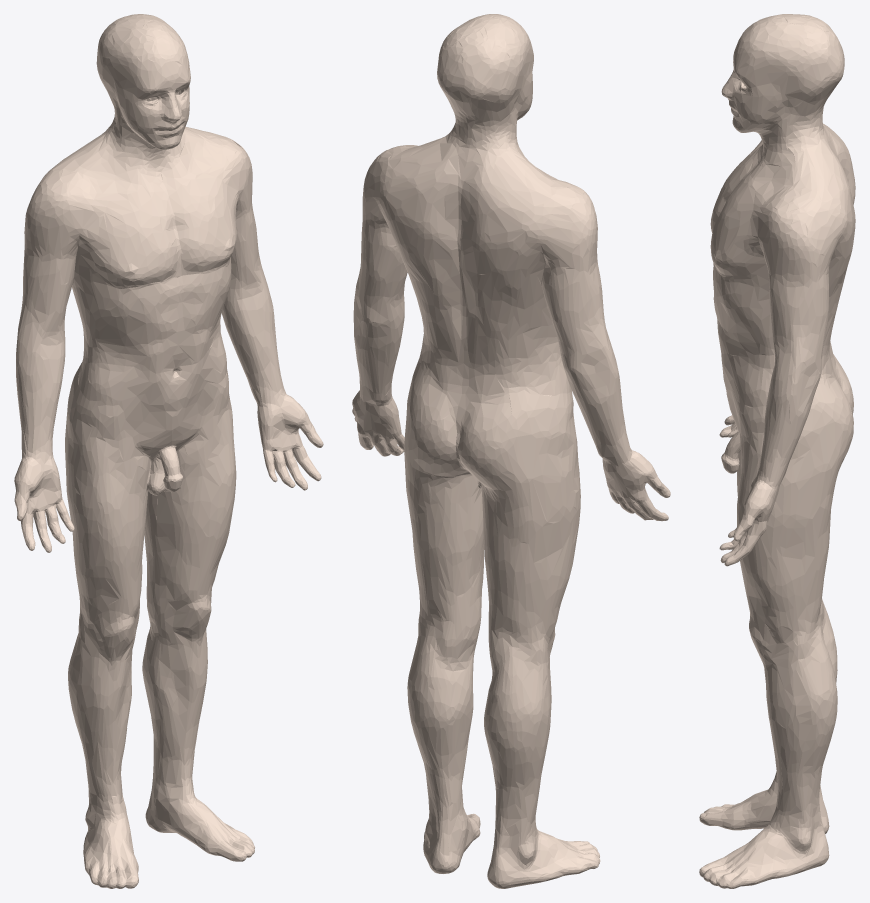
Rendered from skin.glb.
The picture shows the model from 3 angles, left to right: view 1: azimuth 30°, elevation 25°; view 2: azimuth 150°, elevation 25°; view 3: azimuth 270°, elevation 25°; orthographic projection. The views are drawn at different scales.
Parts seen in each view (by area): view 1: Skin_FMA7163; view 2: Skin_FMA7163; view 3: Skin_FMA7163.
Part boxes in pixels (x1,y1,x2,y2): Skin_FMA7163: [14, 14, 323, 888]; Skin_FMA7163: [352, 14, 670, 888]; Skin_FMA7163: [699, 14, 855, 888].
Size of the model in its own units: 0.6667 by 1.72 by 0.292.
